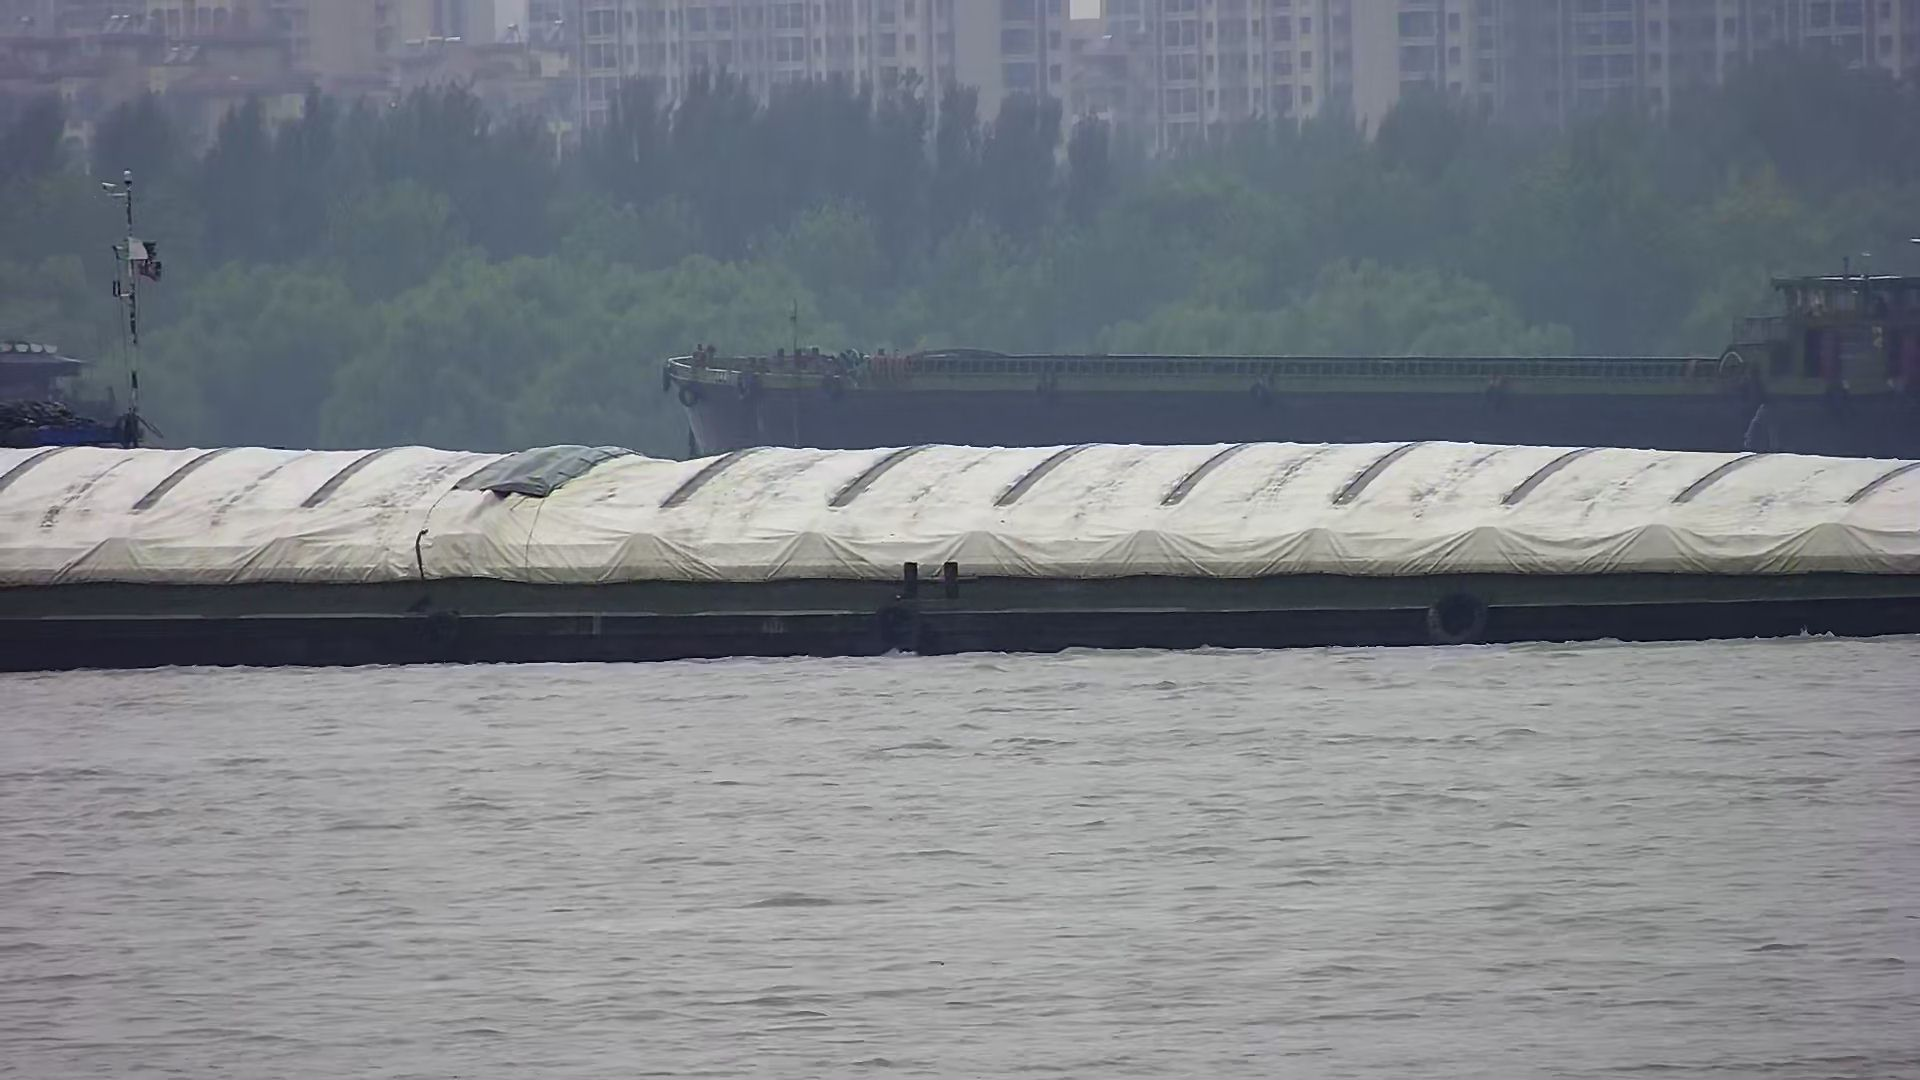ship: (1, 440, 1917, 671), (657, 258, 1920, 454), (3, 171, 161, 448)
